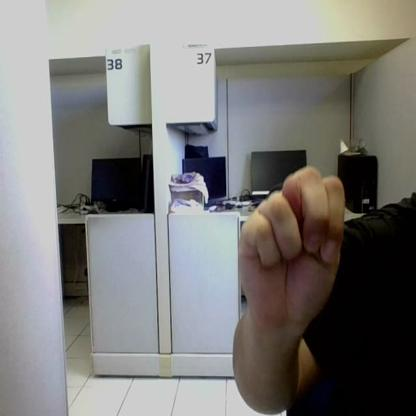N: (239, 167, 345, 318)
